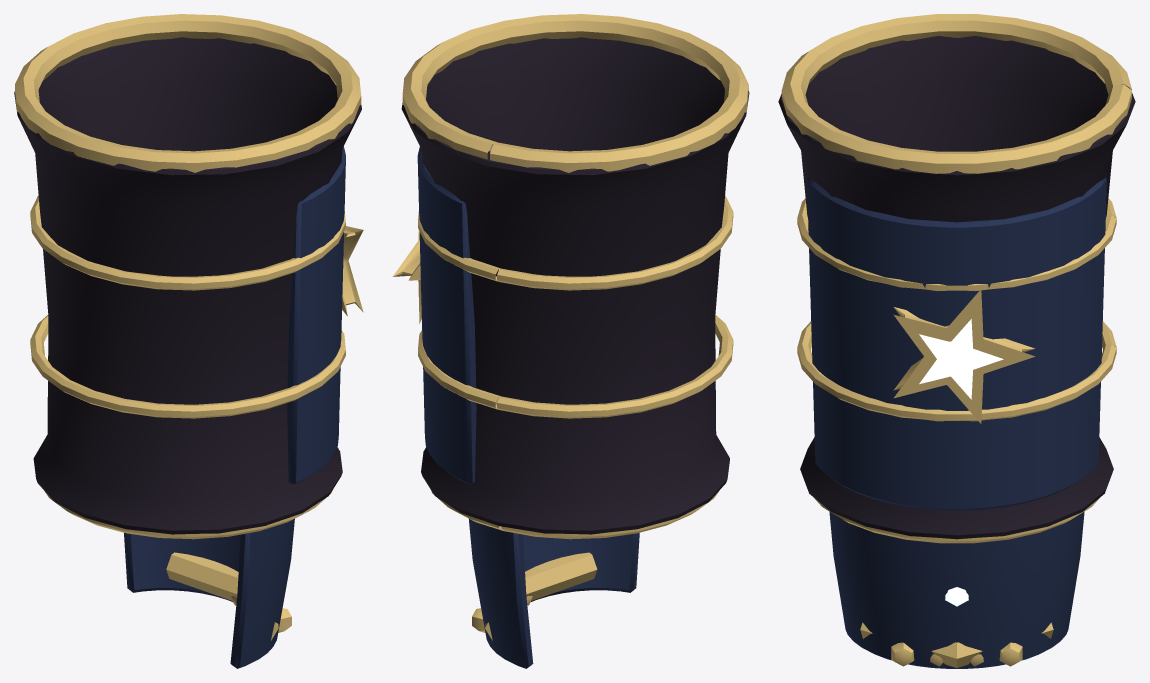
File: boss_starfall_hunter_gloves_1.glb
3 renders of one model, left to right at view 1: azimuth 30°, elevation 25°; view 2: azimuth 150°, elevation 25°; view 3: azimuth 270°, elevation 25°, orthographic.
Visible parts, largest first — view 1: boss_starfall_hunter_gloves_1, AT_hand_L; view 2: boss_starfall_hunter_gloves_1, AT_hand_L; view 3: boss_starfall_hunter_gloves_1, AT_hand_L.
Part boxes in pixels (x1,y1,x2,y2): boss_starfall_hunter_gloves_1: (14, 14, 363, 539); AT_hand_L: (124, 518, 294, 668); boss_starfall_hunter_gloves_1: (392, 14, 749, 539); AT_hand_L: (469, 519, 639, 668); boss_starfall_hunter_gloves_1: (778, 14, 1135, 543); AT_hand_L: (829, 511, 1084, 668).
Size of the model in its own units: 0.1971 by 0.3408 by 0.2004.
